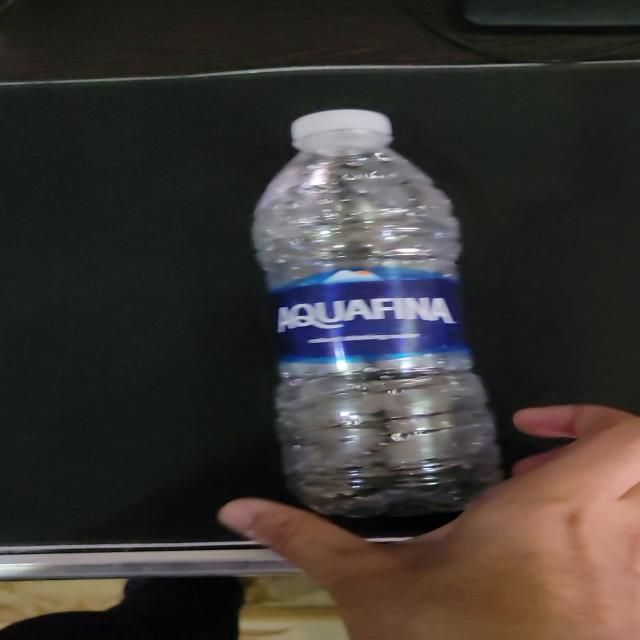Anorganik: (246, 102, 523, 520)
